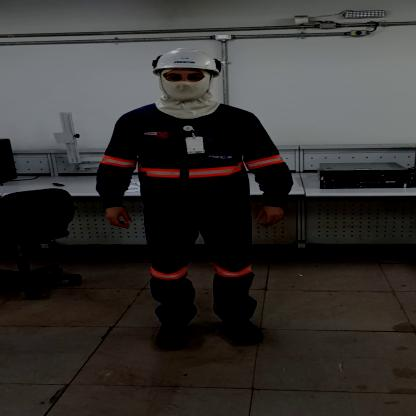Balaclava: (145, 68, 228, 119)
Capacete: (142, 45, 230, 76)
